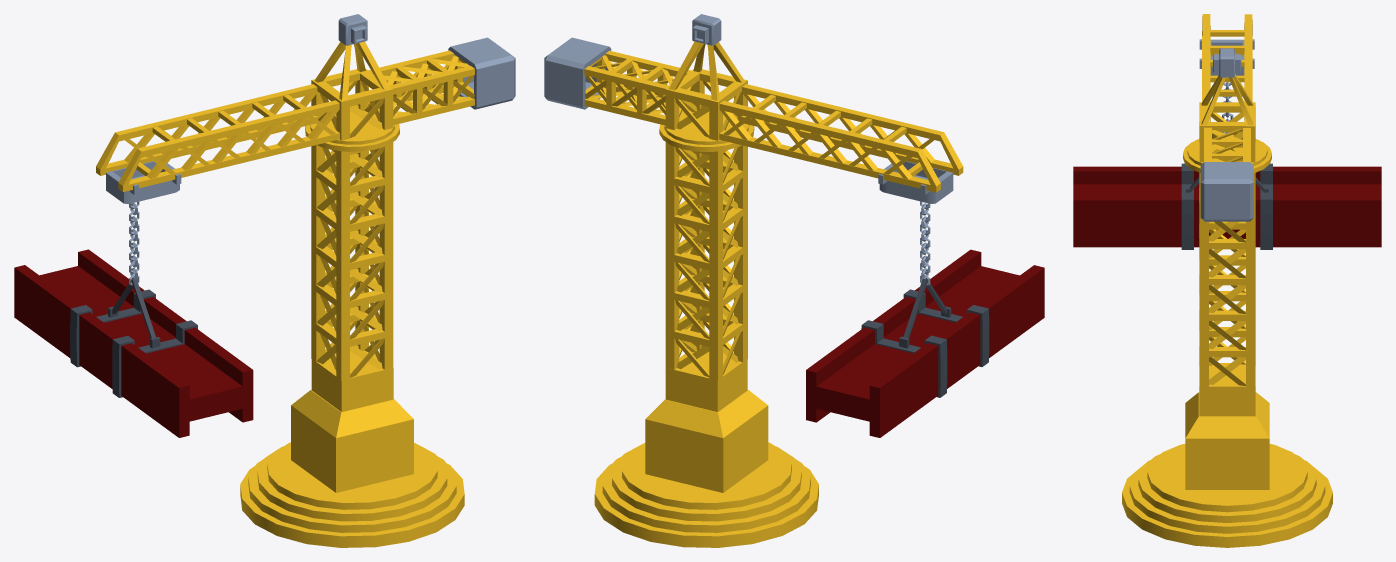
Rendered from Crane.FBX.
3 renders of one model, left to right at view 1: azimuth 30°, elevation 25°; view 2: azimuth 150°, elevation 25°; view 3: azimuth 270°, elevation 25°, orthographic. The views are drawn at different scales.
Visible parts, largest first — view 1: Box001, Object003, Cylinder001; view 2: Box001, Object003, Cylinder001; view 3: Box001, Object003, Cylinder001.
Part boxes in pixels (box(x1,y1,x2,y2)): Box001: box(14, 14, 515, 437); Object003: box(291, 142, 413, 492); Cylinder001: box(240, 442, 464, 547); Box001: box(544, 14, 1044, 437); Object003: box(645, 142, 768, 492); Cylinder001: box(594, 442, 818, 547); Box001: box(1073, 14, 1381, 249); Object003: box(1185, 173, 1269, 489); Cylinder001: box(1122, 444, 1332, 547).
Size of the model in its own units: 49.04 by 55.21 by 34.23.
